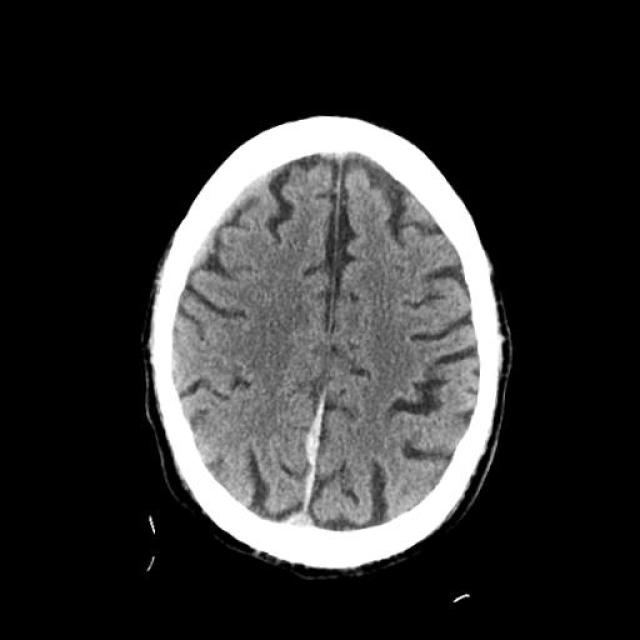Subdural: (268, 382, 338, 540)
